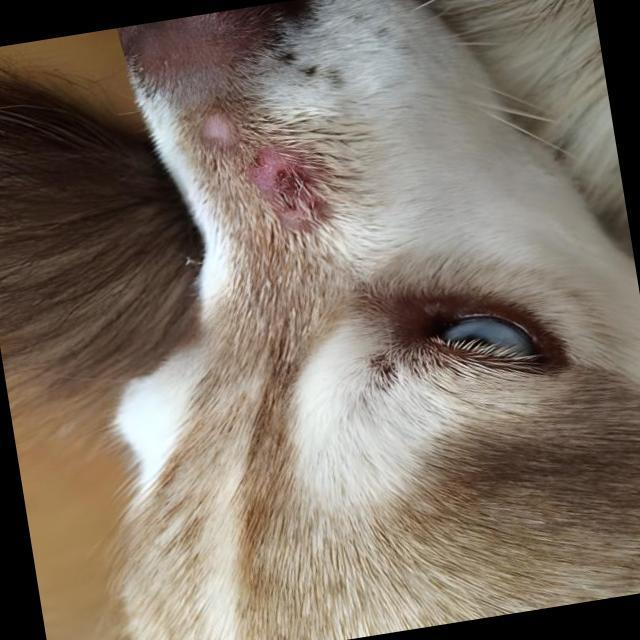allergic dermatitis: (197, 106, 334, 251)
